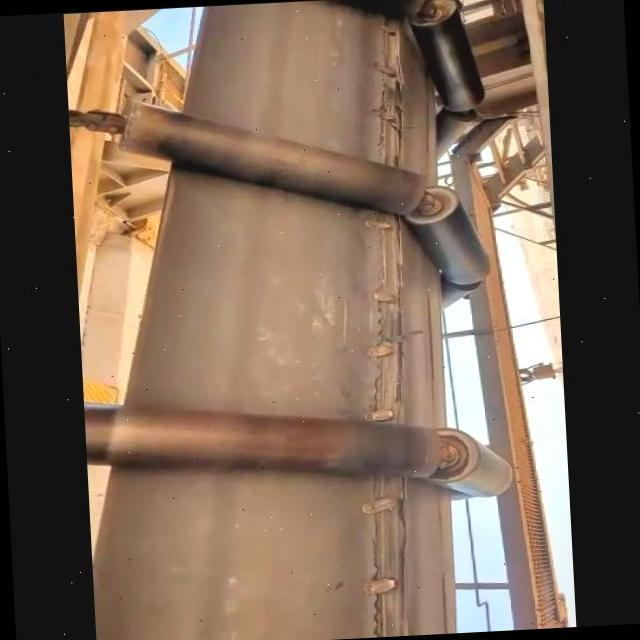Tear: (354, 212, 412, 426), (352, 461, 407, 640), (353, 27, 422, 156)
